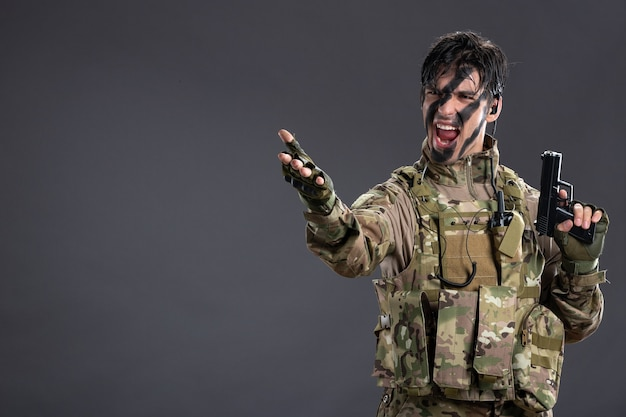gun: (536, 148, 595, 246)
